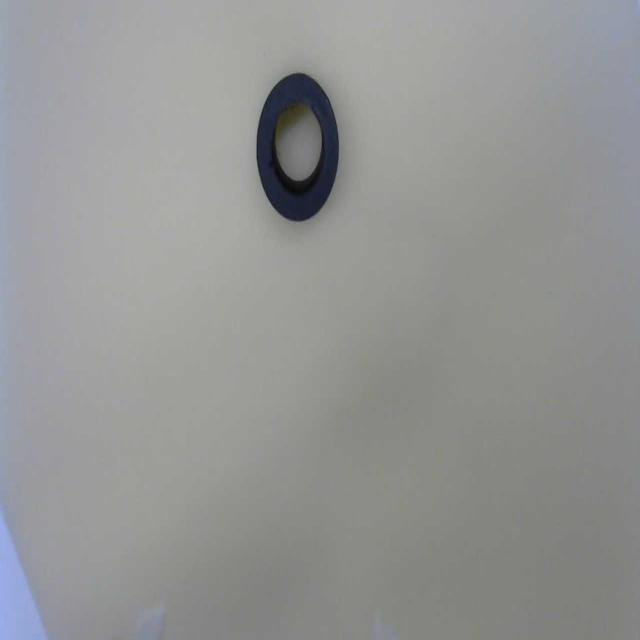ring: (256, 73, 341, 224)
